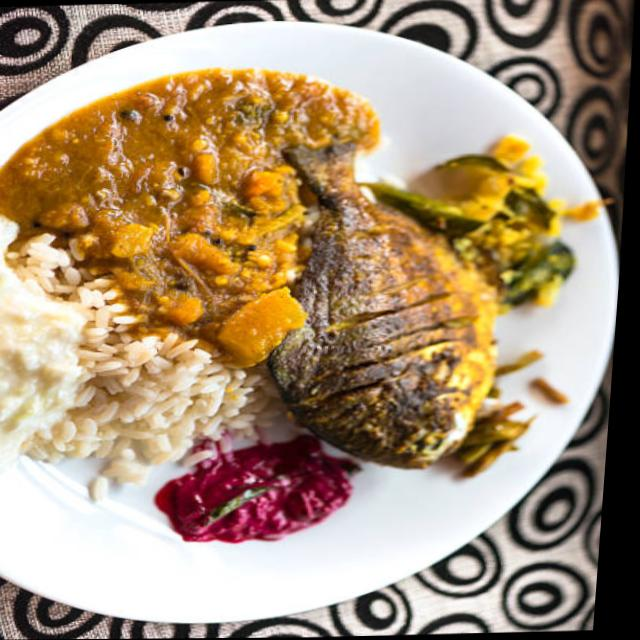DAL: (0, 71, 382, 361)
FISH CURRY: (273, 144, 499, 466)
RICE: (0, 210, 298, 504)
